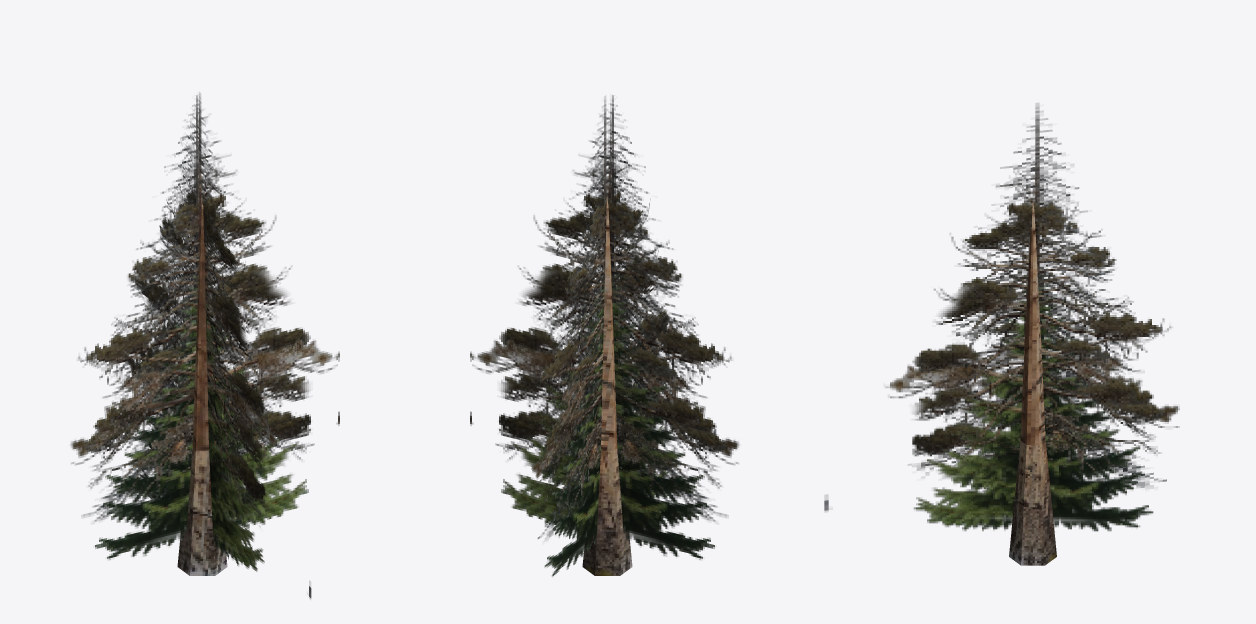
Rendered from kuusipuut.glb.
The picture shows the model from 3 angles, left to right: view 1: azimuth 30°, elevation 25°; view 2: azimuth 150°, elevation 25°; view 3: azimuth 270°, elevation 25°; orthographic projection. The views are drawn at different scales.
Visible parts, largest first — view 1: manty1, manty2, kuusi_1, kuusi_2; view 2: manty1, kuusi_1, manty2, kuusi_2; view 3: manty1, kuusi_1, manty2, kuusi_2.
Boxes of the visible parts, x1=… form: manty1: x1=83, y1=191, x2=310, y2=507; manty2: x1=70, y1=152, x2=339, y2=488; kuusi_1: x1=95, y1=261, x2=308, y2=571; kuusi_2: x1=83, y1=92, x2=314, y2=599; manty1: x1=499, y1=191, x2=726, y2=508; kuusi_1: x1=501, y1=261, x2=714, y2=576; manty2: x1=470, y1=152, x2=739, y2=507; kuusi_2: x1=495, y1=95, x2=726, y2=575; manty1: x1=912, y1=201, x2=1164, y2=470; kuusi_1: x1=913, y1=261, x2=1153, y2=531; manty2: x1=885, y1=157, x2=1179, y2=455; kuusi_2: x1=824, y1=103, x2=1166, y2=565.
Bounding box in the file's own units: 12.03 × 14.5 × 12.03.
1 material, 1 textured.
